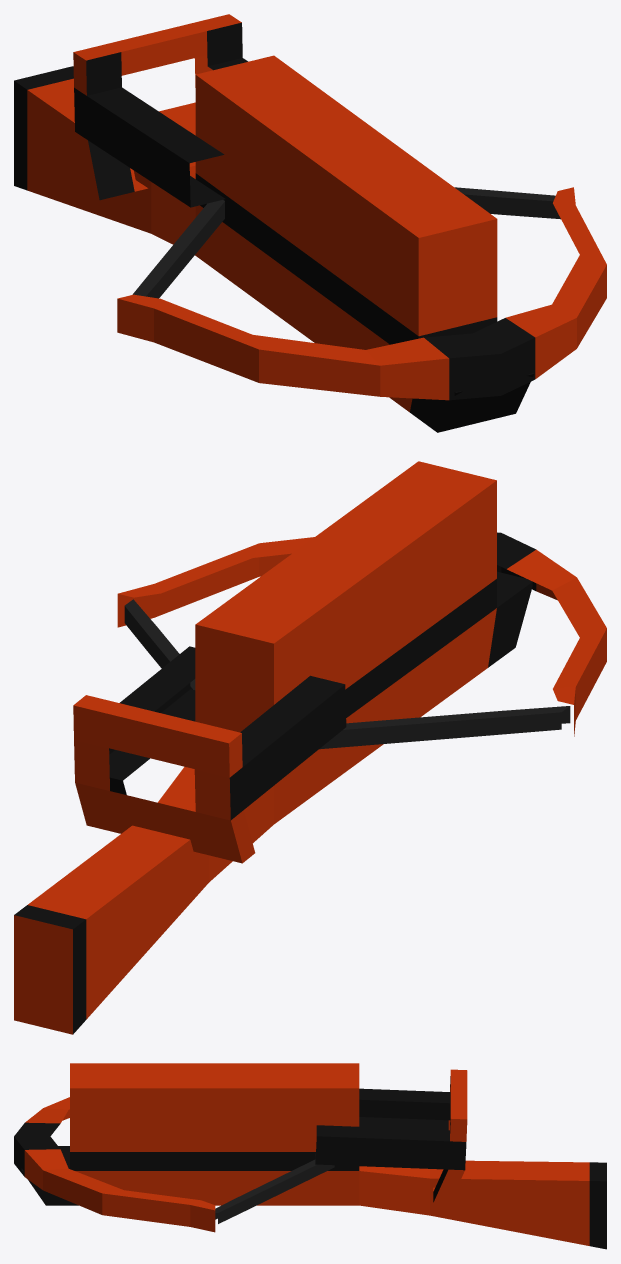
Rendered from repeater_pull.obj.
3 renders of one model, top to bottom at view 1: azimuth 30°, elevation 25°; view 2: azimuth 150°, elevation 25°; view 3: azimuth 270°, elevation 25°, orthographic. The views are drawn at different scales.
Visible parts, largest first — view 1: repeater_pull; view 2: repeater_pull; view 3: repeater_pull.
Part boxes in pixels (left/top/right/bottom): repeater_pull: left=14, top=14, right=606, bottom=432; repeater_pull: left=14, top=461, right=606, bottom=1034; repeater_pull: left=14, top=1063, right=606, bottom=1249.
Size of the model in its own units: 0.218 by 0.1158 by 0.3787.
